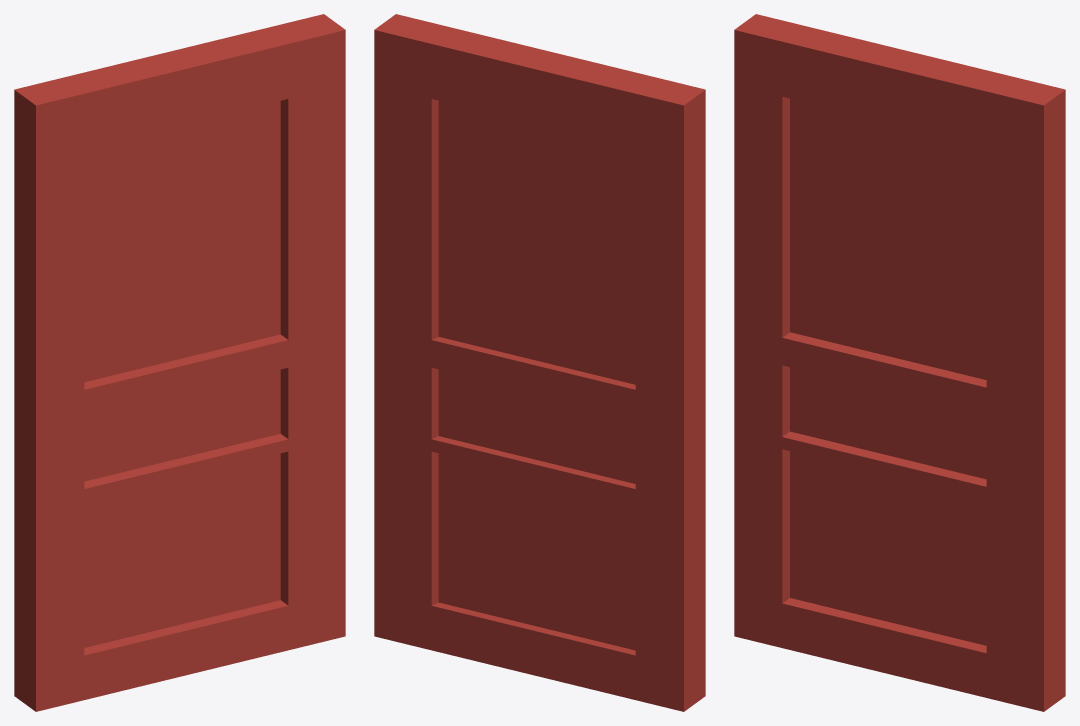
File: PuertaLabefbx.fbx
The picture shows the model from 3 angles, left to right: view 1: azimuth 30°, elevation 25°; view 2: azimuth 150°, elevation 25°; view 3: azimuth 330°, elevation 25°; orthographic projection.
Parts seen in each view (by area): view 1: Cube.136; view 2: Cube.136; view 3: Cube.136.
Part boxes in pixels (box(x1,y1,x2,y2)): Cube.136: box(14, 14, 345, 711); Cube.136: box(374, 14, 705, 711); Cube.136: box(734, 14, 1065, 711).
Size of the model in its own units: 140 by 262 by 17.07.
